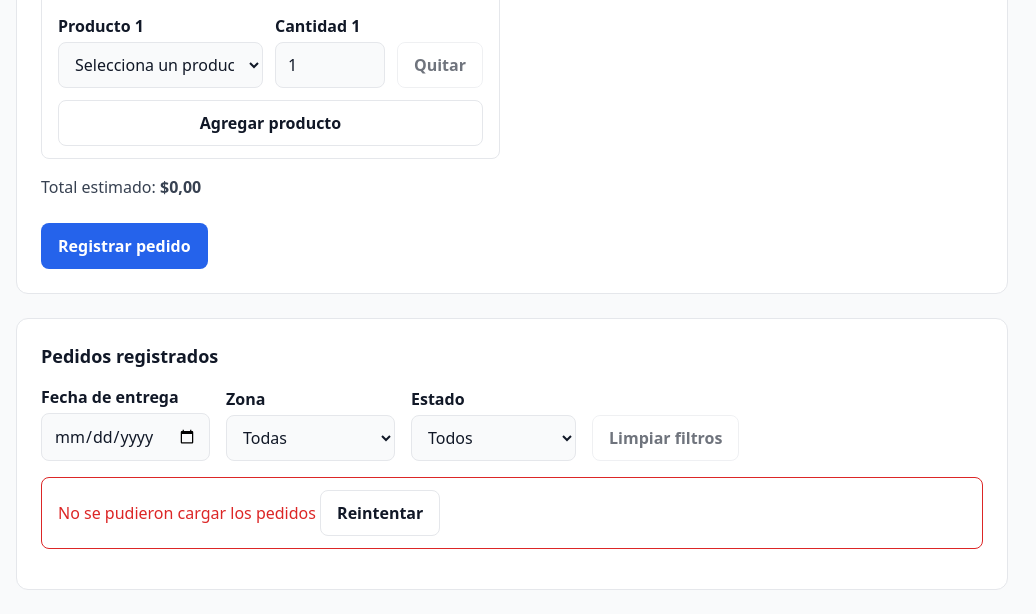
Scenario: OrdersPage · listado › muestra el error del backend al listar y permite reintentar
(page scrolled)
Check: the text "No se pudieron cargar los pedidos" is shown, box [58,502,316,524]
Click the button "Reintentar" at (380, 513), box [320,490,440,536]
(page scrolled)
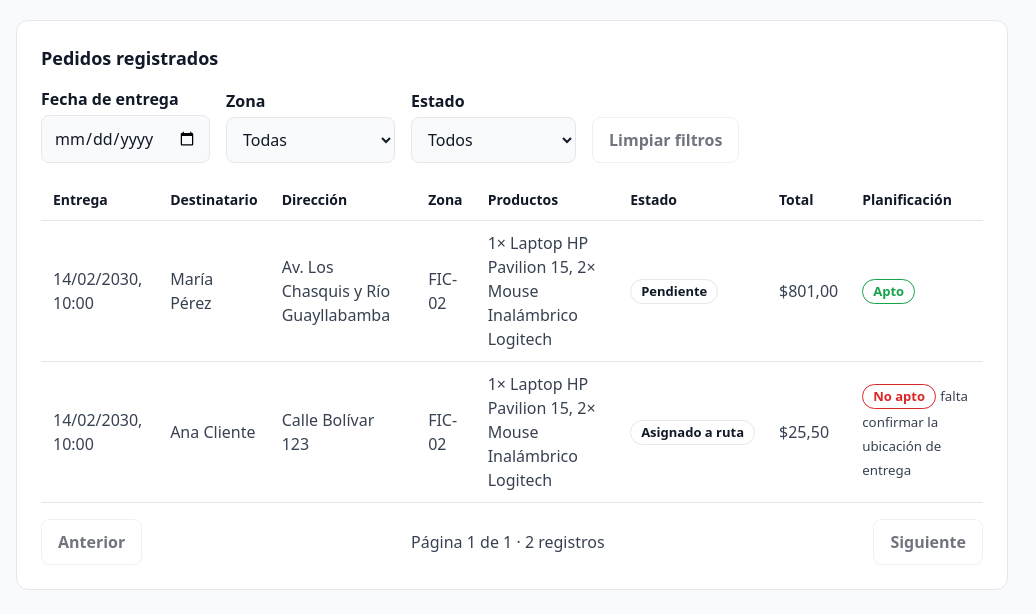
Check: the table named "Pedidos registrados" is shown, box [41,179,983,503]
